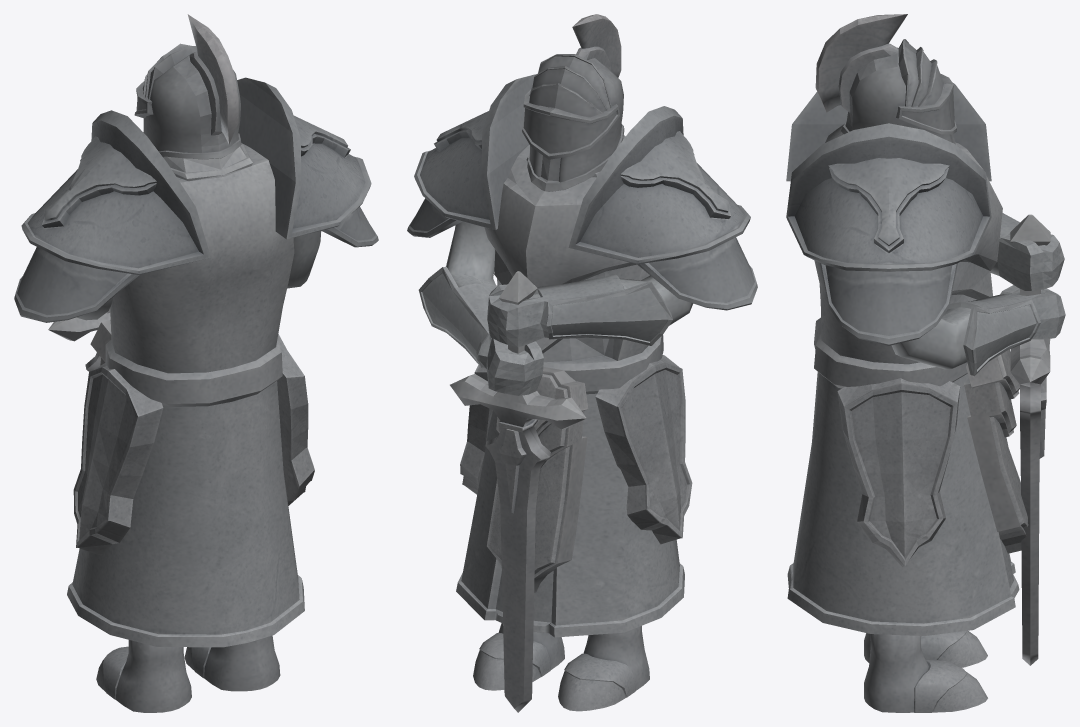
File: Stone Statue_A.fbx
The picture shows the model from 3 angles, left to right: view 1: azimuth 30°, elevation 25°; view 2: azimuth 150°, elevation 25°; view 3: azimuth 270°, elevation 25°; orthographic projection. The views are drawn at different scales.
Parts seen in each view (by area): view 1: Stone_Statue_A; view 2: Stone_Statue_A; view 3: Stone_Statue_A.
Boxes of the visible parts, left/top/right/bottom form: Stone_Statue_A: left=14, top=14, right=378, bottom=712; Stone_Statue_A: left=407, top=14, right=757, bottom=712; Stone_Statue_A: left=786, top=14, right=1065, bottom=712.
Size of the model in its own units: 2656 by 4829 by 1854.
Materials: 1 (1 with a texture image).
